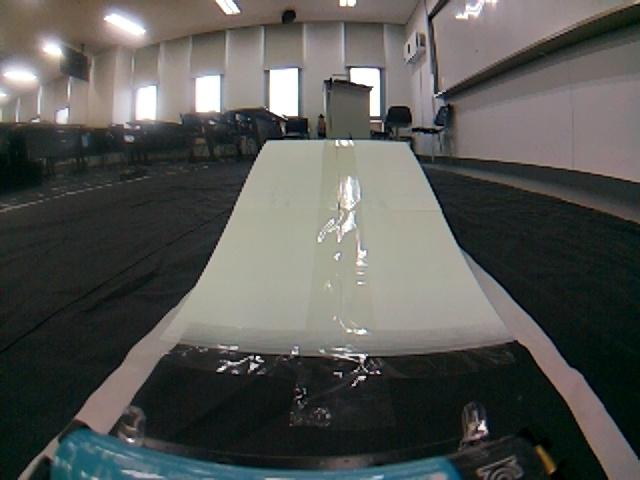hill_up: (161, 137, 521, 350)
straight: (1, 138, 640, 480)
